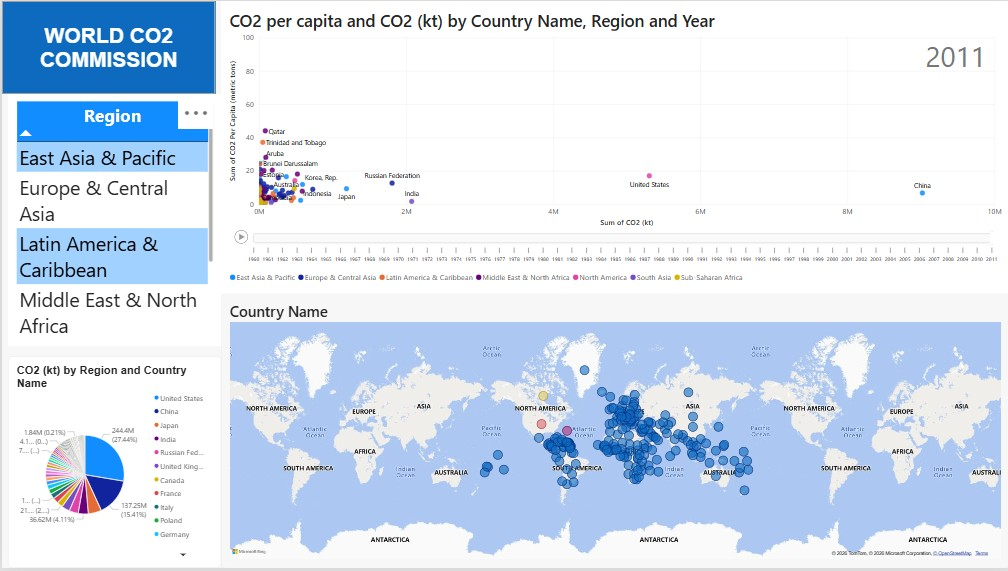

What the dashboard file says about the page in this screenshot:
{"tool":"powerbi","page":{"name":"world CO2 commission","canvas":[1920,1080],"ordinal":0},"visuals":[{"type":"tableEx","fields":{"Values":["CO2 Data.Region"]},"box":[10,176.7,406.7,480],"z":0},{"type":"scatterChart","title":"CO2 per capita and CO2 (kt) by Country Name, Region and Year","fields":{"Category":["CO2 Data.Country Name"],"Play":["CO2 Data.Year"],"Series":["CO2 Data.Region"],"X":["Sum(CO2 Data.CO2 (kt))"],"Y":["Sum(CO2 Data.CO2 Per Capita (metric tons))"]},"box":[416.7,0,1503.3,556.7],"z":1},{"type":"map","fields":{"Category":["CO2 Data.Country Name"]},"box":[416.7,556.7,1503.3,523.3],"z":3},{"type":"pieChart","title":"CO2 (kt) by Region and Country Name","fields":{"Category":["CO2 Data.Country Name"],"Y":["Sum(CO2 Data.CO2 (kt))"]},"box":[11.4,677.1,405.7,402.9],"z":4},{"type":"shape","box":[0,0,406.7,176.7],"z":5}]}

Visuals, with their boxes in screenshot pixels (x1, y1, x2, y2), scaled from the page's 1920x1080 canvas onto the 1008x571 screenshot:
tableEx - CO2 Data.Region: <box>5,93,219,347</box>
"CO2 per capita and CO2 (kt) by Country Name, Region and Year" scatterChart: <box>219,0,1007,294</box>
map - CO2 Data.Country Name: <box>219,294,1007,570</box>
"CO2 (kt) by Region and Country Name" pieChart: <box>6,358,219,570</box>
shape: <box>0,0,214,93</box>
